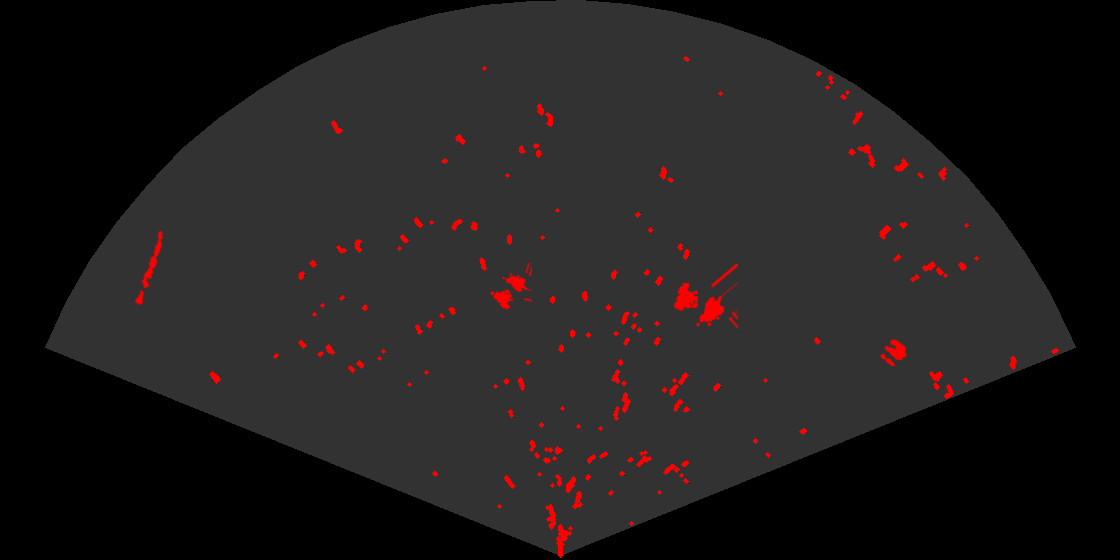ball: (879, 338, 908, 368)
cage: (672, 264, 738, 331), (491, 263, 532, 312)
chain: (133, 228, 165, 311)
